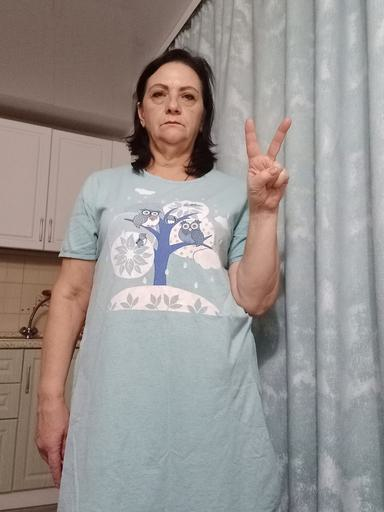peace: (242, 116, 294, 211)
